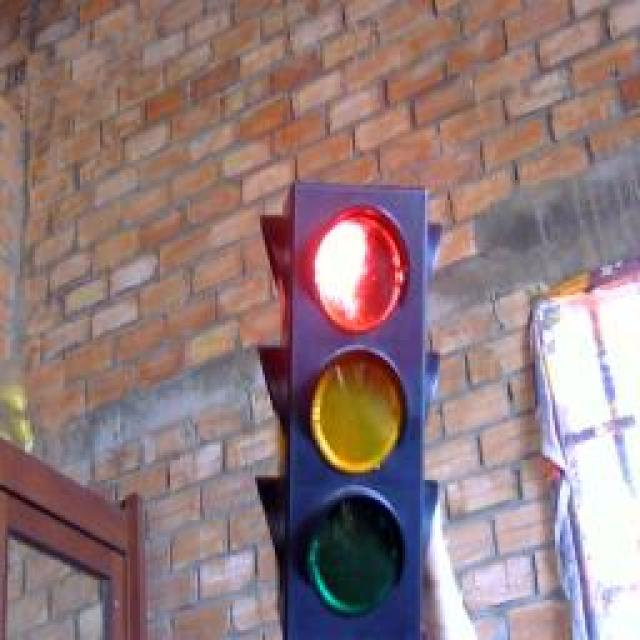-: (304, 192, 426, 342)
